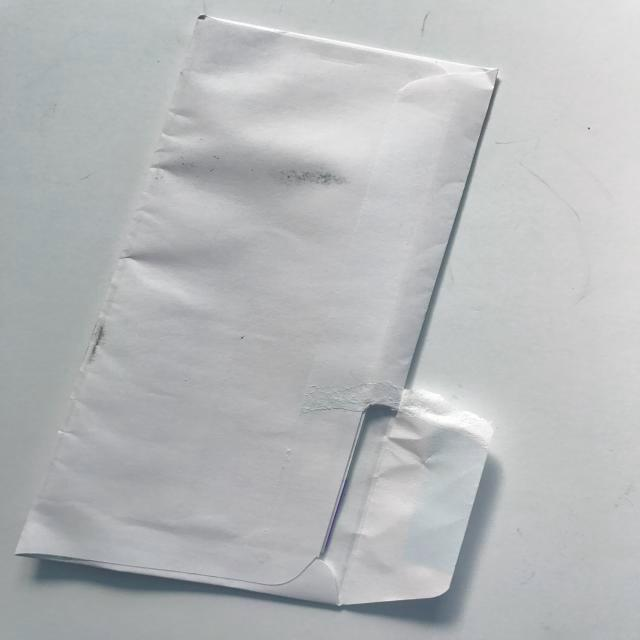paper: (9, 0, 554, 640)
